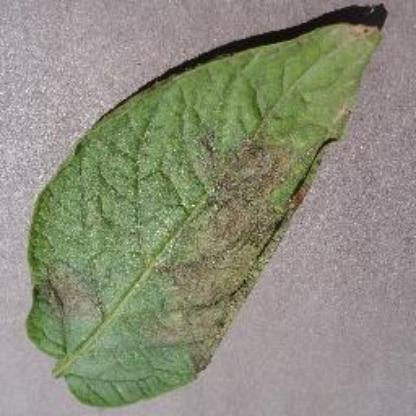Late-Blight: (25, 18, 385, 410)
